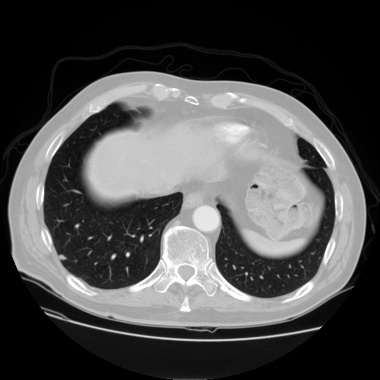PN: (58, 253, 66, 261)
